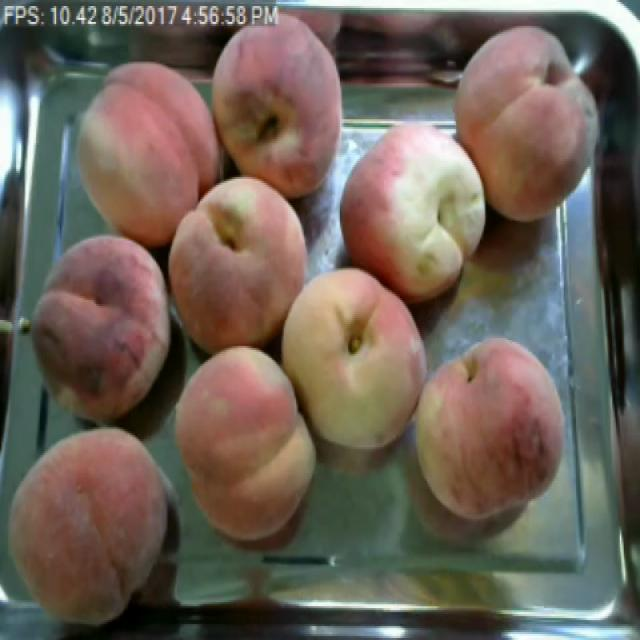Fruit: (2, 411, 185, 638), (433, 6, 612, 236), (400, 326, 581, 533), (265, 253, 440, 461), (13, 221, 175, 443), (328, 117, 505, 318), (166, 334, 330, 550), (69, 52, 236, 254), (164, 165, 321, 366), (205, 8, 356, 215)
